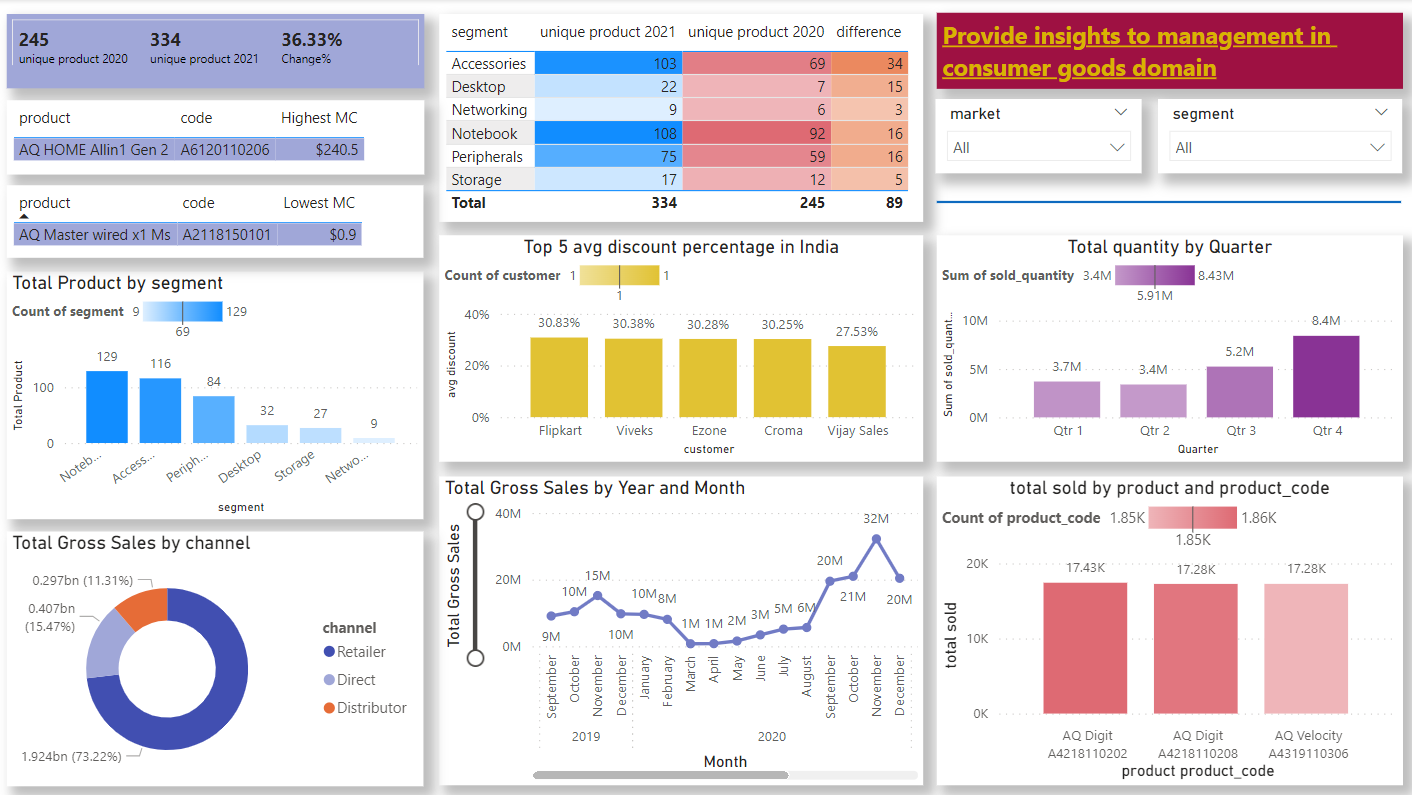

The page's visual inventory and layout, read from the dashboard file:
{"tool":"powerbi","page":{"name":"Page 1","canvas":[1280,720],"ordinal":0},"visuals":[{"type":"multiRowCard","fields":{"Values":["Measure.unique product 2020","Measure.unique product 2021","Measure.unique product percentage chng"]},"box":[7.5,13.4,378,67.2],"z":0},{"type":"clusteredColumnChart","fields":{"Category":["gdb023 dim_product.segment"],"Y":["Count(gdb023 dim_product.product_code)"]},"box":[7.5,246.5,376.5,224.1],"z":1000},{"type":"tableEx","fields":{"Values":["gdb023 dim_product.segment","Measure.unique product 2021","Measure.unique product 2020","Measure.unique product differenc"]},"box":[398.9,13.4,437.7,188.2],"z":2000},{"type":"tableEx","fields":{"Values":["gdb023 dim_product.product","gdb023 dim_product.product_code","Max(gdb023 fact_manufacturing_cost.manufacturing_cost)"]},"box":[7.5,91.1,378,67.2],"z":3000},{"type":"tableEx","fields":{"Values":["gdb023 dim_product.product","gdb023 dim_product.product_code","Min(gdb023 fact_manufacturing_cost.manufacturing_cost)"]},"box":[7.5,168.8,376.5,65.7],"z":4000},{"type":"clusteredColumnChart","title":"Top 5 avg discount percentage in India","fields":{"Category":["gdb023 dim_customer.customer"],"Y":["Measure.avg discount"]},"box":[399.3,214.1,437.7,204.5],"z":5000},{"type":"lineChart","fields":{"Category":["gdb023 fact_sales_monthly.date.Variation.Date Hierarchy.Year","gdb023 fact_sales_monthly.date.Variation.Date Hierarchy.Month"],"Y":["Measure.Total Gross Sales"]},"box":[398.9,431.7,437.7,279.4],"z":6000},{"type":"donutChart","fields":{"Category":["gdb023 dim_customer.channel"],"Y":["Measure.Total Gross Sales"]},"box":[7.5,481,376.5,230.1],"z":7000},{"type":"clusteredColumnChart","title":"Total quantity by Quarter","fields":{"Category":["gdb023 fact_sales_monthly.date.Variation.Date Hierarchy.Quarter"],"Y":["Sum(gdb023 fact_sales_monthly.sold_quantity)"]},"box":[848.6,213.6,421.3,204.7],"z":8000},{"type":"clusteredColumnChart","fields":{"Category":["gdb023 dim_product.product","gdb023 fact_sales_monthly.product_code"],"Y":["Measure.total sold"]},"box":[848.6,431.7,421.3,279.4],"z":9000},{"type":"textbox","box":[849.4,12.3,421.3,68.6],"z":9001},{"type":"slicer","fields":{"Values":["gdb023 dim_customer.market"]},"box":[848,90.6,186.6,67.2],"z":9002},{"type":"slicer","fields":{"Values":["gdb023 dim_product.segment"]},"box":[1048.4,90.6,220.9,67.2],"z":9003},{"type":"shape","box":[849.4,164.7,419.9,37],"z":9004}]}

Visuals, with their boxes in screenshot pixels (x1, y1, x2, y2), scaled from the page's 1280x720 canvas onto the 1412x795 screenshot:
multiRowCard - Measure.unique product 2020 x Measure.unique product 2021: region(8, 15, 425, 89)
clusteredColumnChart - gdb023 dim_product.segment x Count(gdb023 dim_product.product_code): region(8, 272, 424, 520)
tableEx - gdb023 dim_product.segment x Measure.unique product 2021: region(440, 15, 923, 223)
tableEx - gdb023 dim_product.product x gdb023 dim_product.product_code: region(8, 101, 425, 175)
tableEx - gdb023 dim_product.product x gdb023 dim_product.product_code: region(8, 186, 424, 259)
"Top 5 avg discount percentage in India" clusteredColumnChart: region(440, 236, 923, 462)
lineChart - gdb023 fact_sales_monthly.date.Variation.Date Hierarchy.Year x gdb023 fact_sales_monthly.date.Variation.Date Hierarchy.Month: region(440, 477, 923, 785)
donutChart - gdb023 dim_customer.channel x Measure.Total Gross Sales: region(8, 531, 424, 785)
"Total quantity by Quarter" clusteredColumnChart: region(936, 236, 1401, 462)
clusteredColumnChart - gdb023 dim_product.product x gdb023 fact_sales_monthly.product_code: region(936, 477, 1401, 785)
textbox: region(937, 14, 1402, 89)
slicer - gdb023 dim_customer.market: region(935, 100, 1141, 174)
slicer - gdb023 dim_product.segment: region(1157, 100, 1400, 174)
shape: region(937, 182, 1400, 223)
